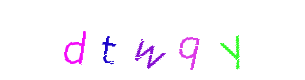D: (67, 0, 147, 80)
Q: (112, 0, 192, 80)
T: (91, 0, 171, 80)
W: (104, 0, 184, 80)
Y: (193, 0, 273, 80)
